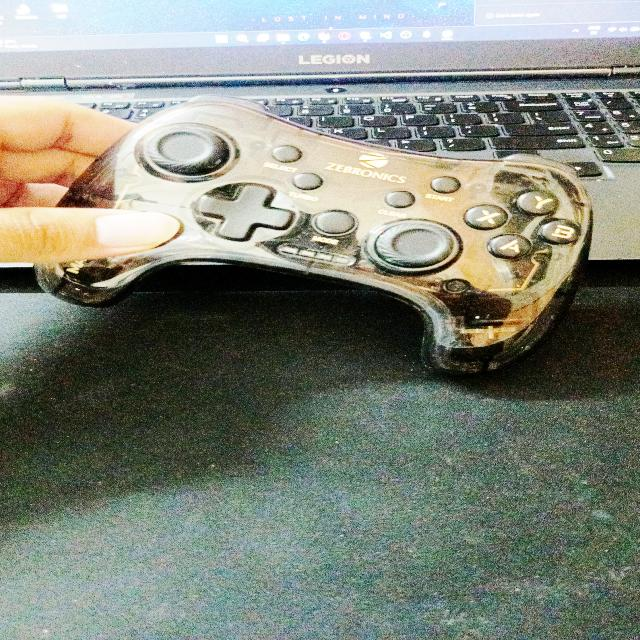gamepad: (32, 94, 594, 376)
